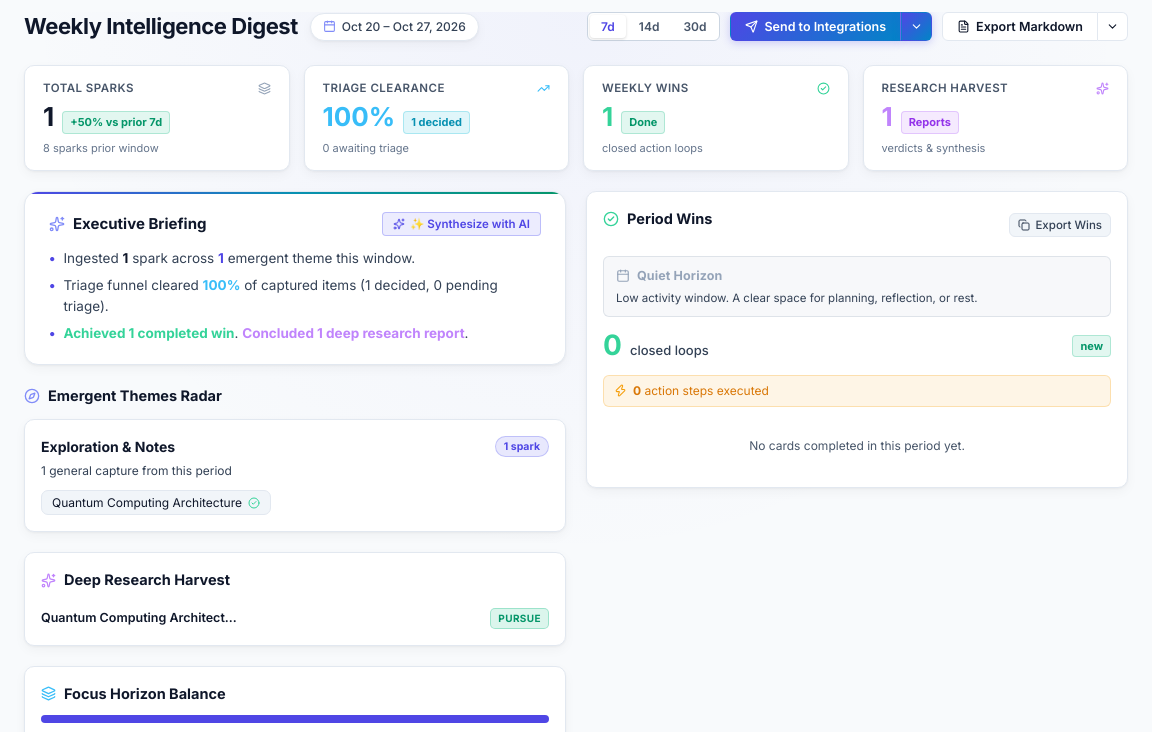
Test case: DigestView › opens integration selection dropdown when chevron is clicked, displaying channels
Click the button named "Select integration channel": (917, 26) [901,12,932,41]
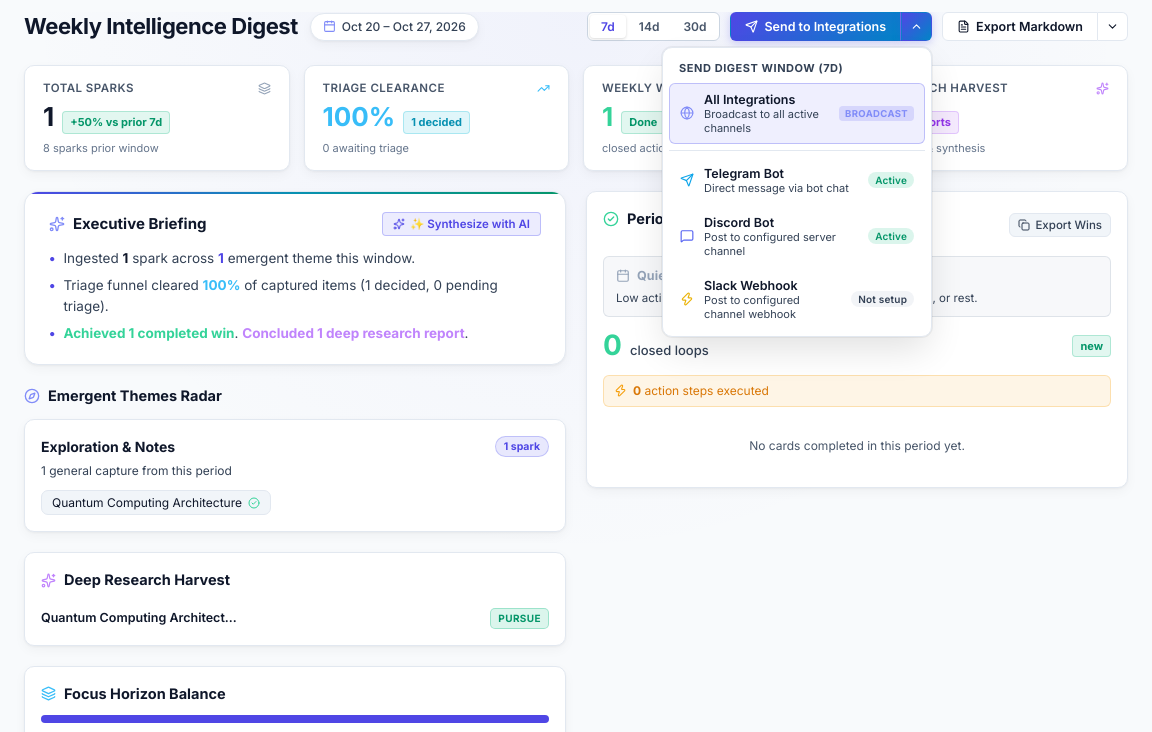
Expected: the menu is shown, [662,47,932,336]
Expected: the text "All Integrations" is shown, [704,92,795,106]
Expected: the text "Telegram Bot" is shown, [704,166,784,180]
